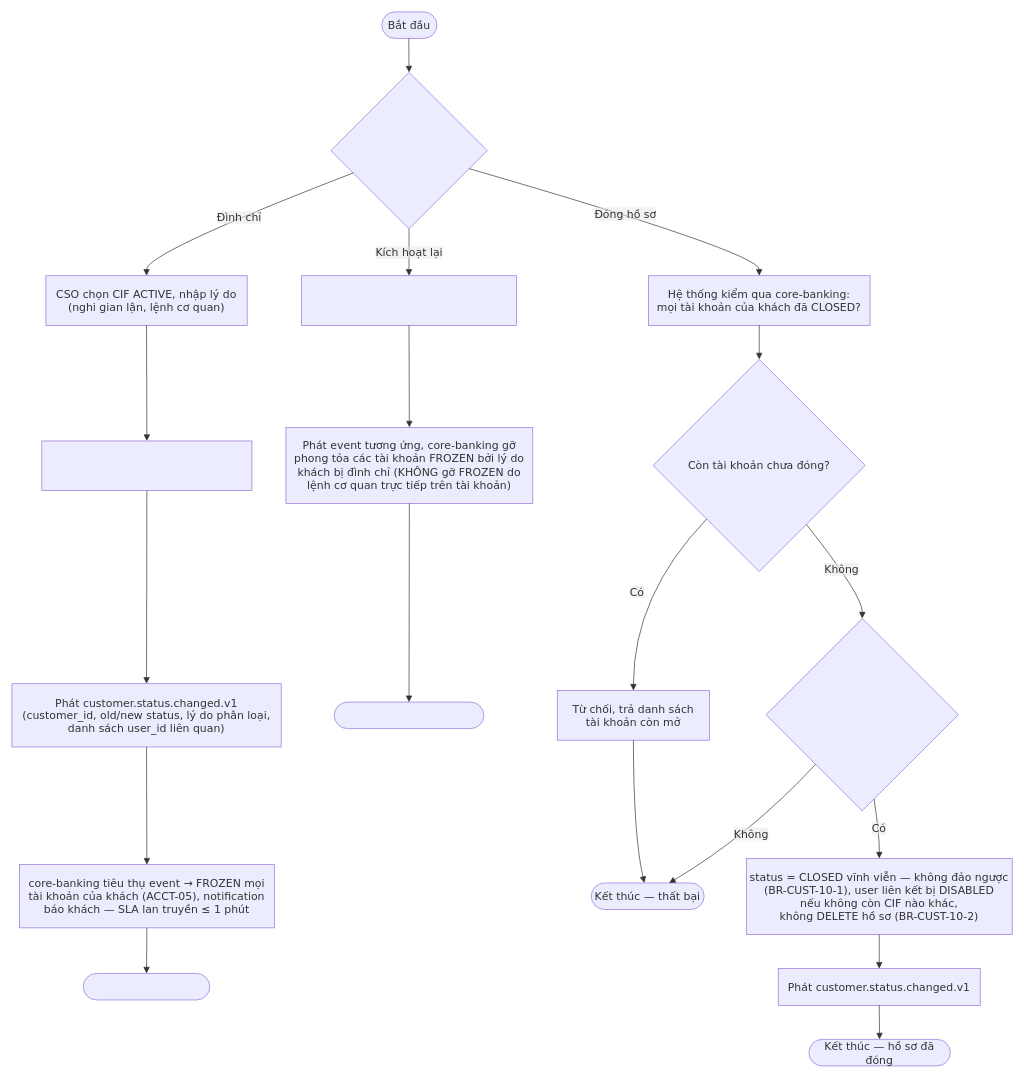
This 1024x1078 diagram has some shape labels left out. Here are the shapes that lost their labels. From the top down, the box of each, then its label:
(330, 72, 487, 229): Thao tác vòng đời?
(301, 275, 516, 325): CSO nhập lý do gỡ, hệ thống đặt SUSPENDED → ACTIVE
(41, 440, 252, 491): Hệ thống đặt status = SUSPENDED, ghi audit
(334, 701, 484, 729): Kết thúc — đã kích hoạt lại
(765, 618, 958, 811): Admin phê duyệt đóng?
(83, 973, 210, 1000): Kết thúc — đã đình chỉ
